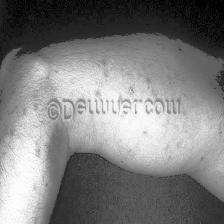Non-Cancerous Skin Condition: (22, 119, 60, 189), (106, 79, 178, 97), (0, 113, 14, 184)
